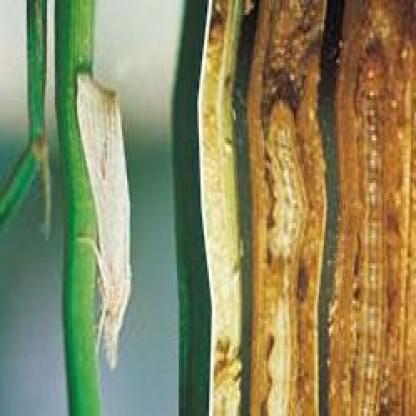stem-borer: (70, 67, 135, 375)
